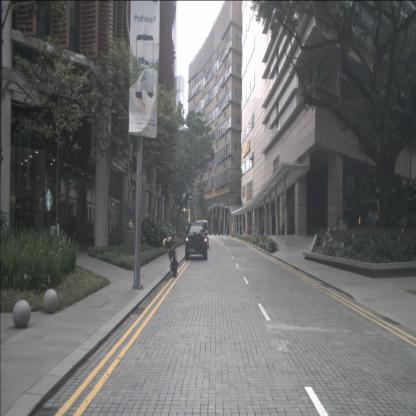vehicle-car: (185, 223, 207, 260), (194, 220, 209, 249)
vehicle-motorcycle: (162, 234, 181, 277)
